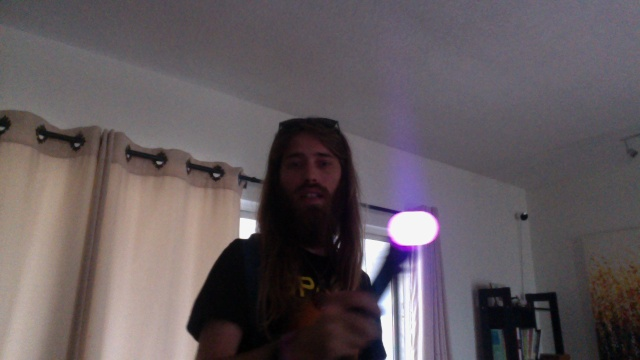wand: (389, 212, 439, 246)
